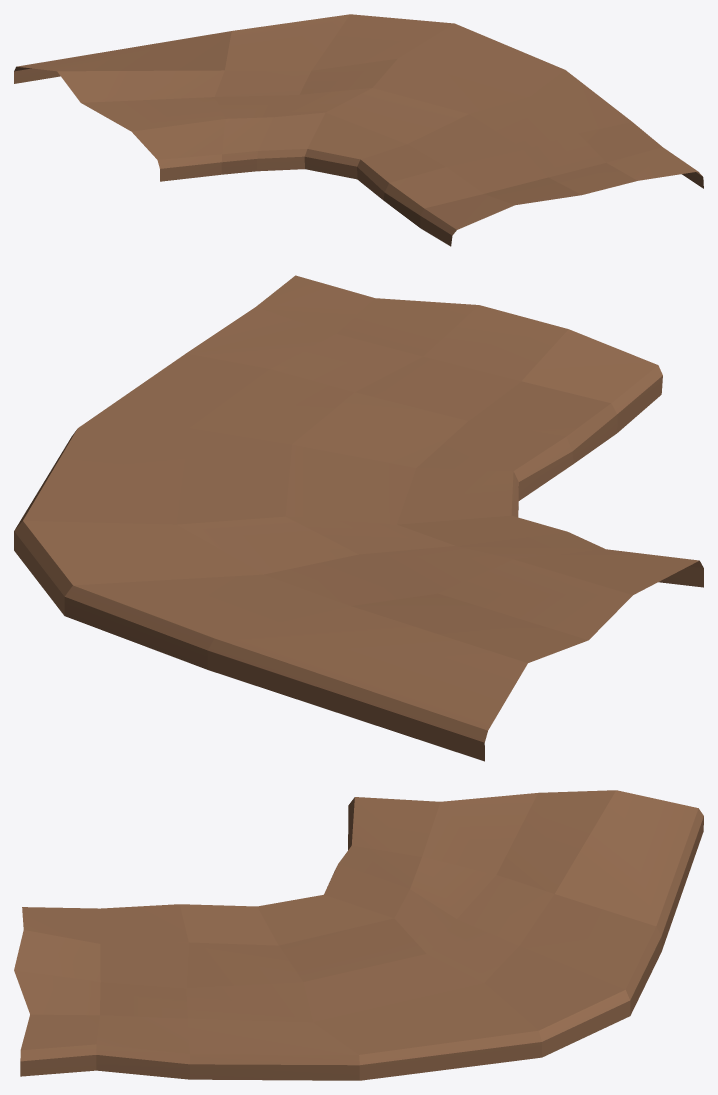
Rendered from RoadTile_7.fbx.
3 renders of one model, top to bottom at view 1: azimuth 30°, elevation 25°; view 2: azimuth 150°, elevation 25°; view 3: azimuth 270°, elevation 25°, orthographic. The views are drawn at different scales.
Visible parts, largest first — view 1: RoadTile_7; view 2: RoadTile_7; view 3: RoadTile_7.
Boxes of the visible parts, x1=… form: RoadTile_7: x1=14, y1=14, x2=703, y2=246; RoadTile_7: x1=14, y1=275, x2=703, y2=761; RoadTile_7: x1=14, y1=790, x2=703, y2=1080.
Size of the model in its own units: 656 by 61.36 by 772.
